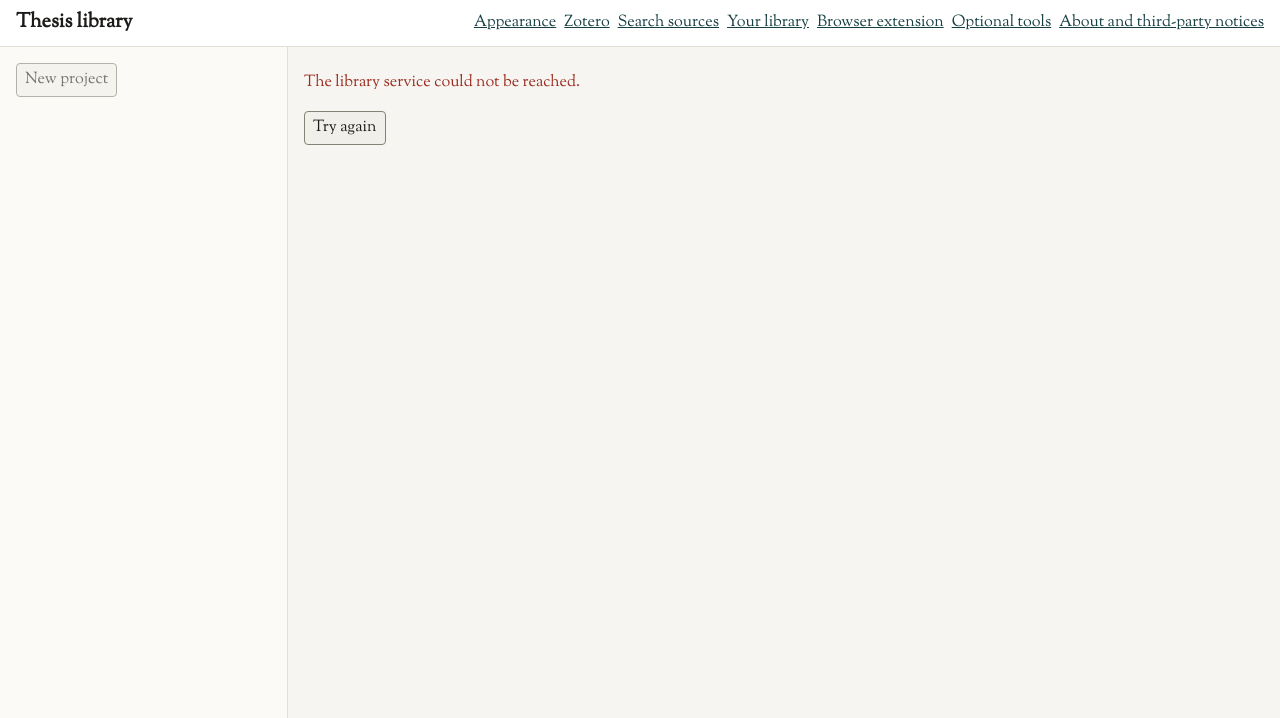
Test: Library: first reads that never settle or fail (FR-756 B) › a projects read that fails for want of an answer says “could not be reached” (not merged with the time limit's words), with “Try again”
This screenshot has width=1280, height=718.
Click the button "Try again".
click(345, 128)  # box 304,111 -> 386,145
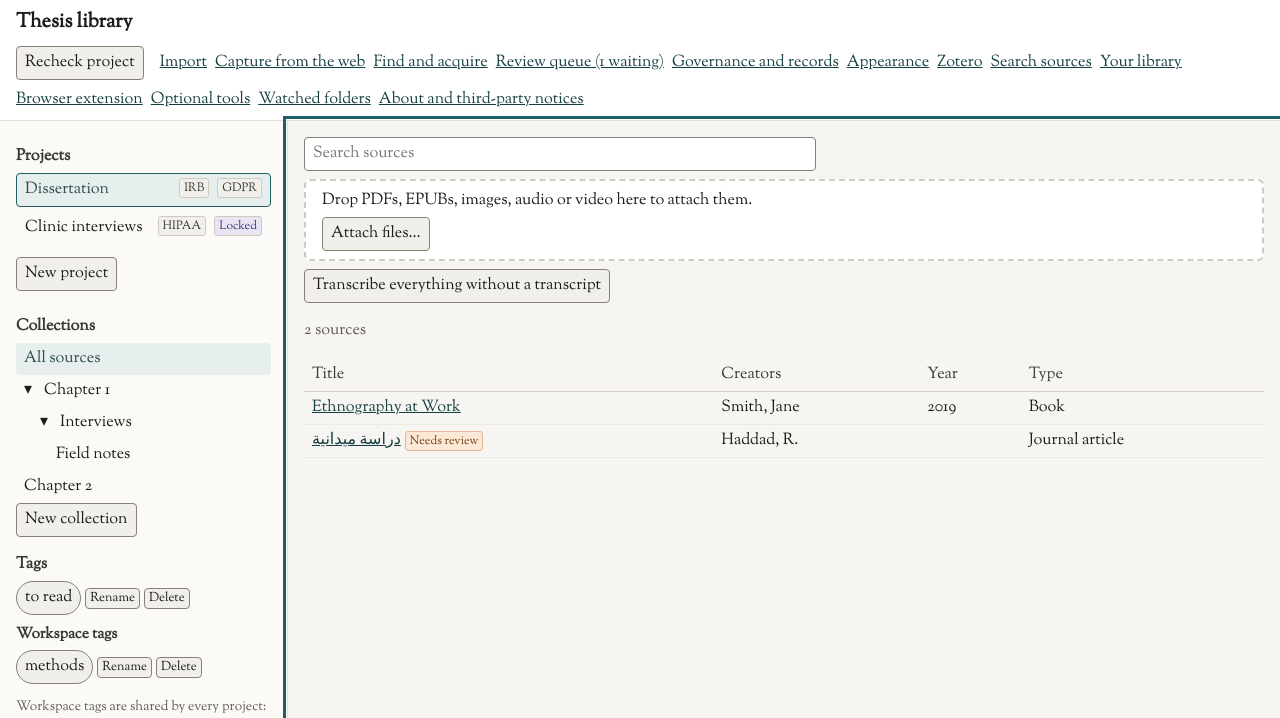
Now the navigation bar "Projects" is shown, box 16,145 -> 271,245
Now the button "Try again" is gone
